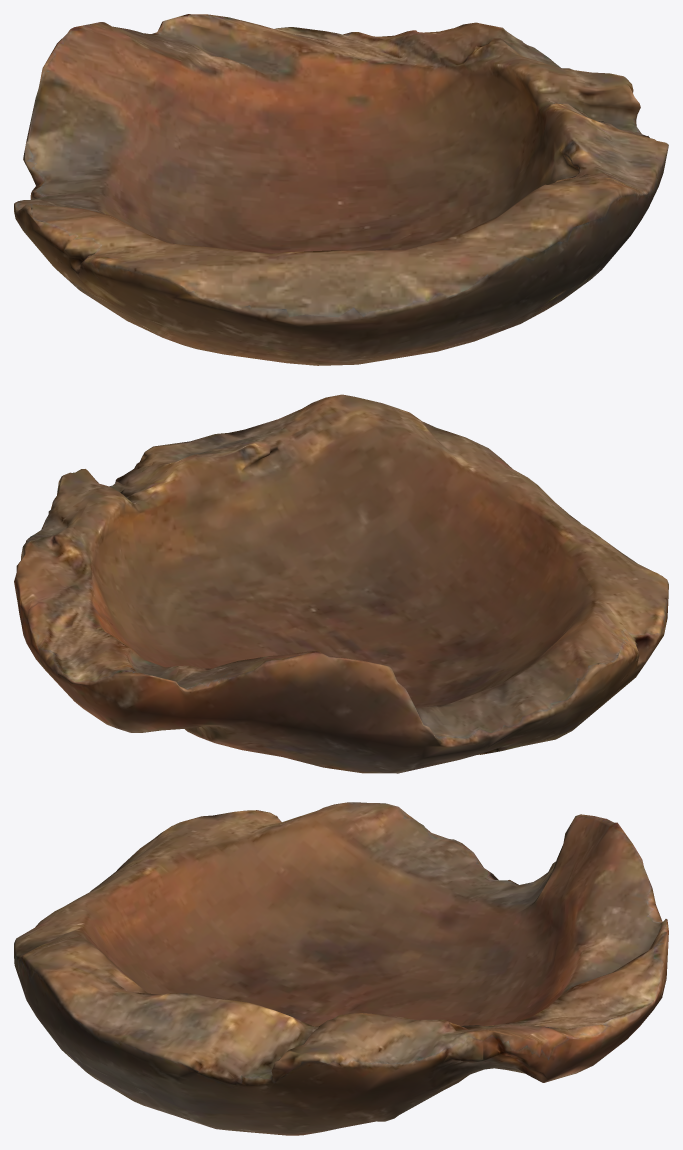
The model's file is wooden_bowl_01.glb.
3 views of the same model, one above another, from view 1: azimuth 30°, elevation 25°; view 2: azimuth 150°, elevation 25°; view 3: azimuth 270°, elevation 25° (orthographic). The views are drawn at different scales.
Parts seen in each view (by area): view 1: wooden_bowl_01; view 2: wooden_bowl_01; view 3: wooden_bowl_01.
Boxes of the visible parts, x1,y1,x2,y2 form: wooden_bowl_01: (14,14,668,365); wooden_bowl_01: (14,394,668,773); wooden_bowl_01: (14,802,668,1135).
Bounding box in the file's own units: 0.3127 × 0.0935 × 0.3088.
Materials: 1 (1 with a texture image).
